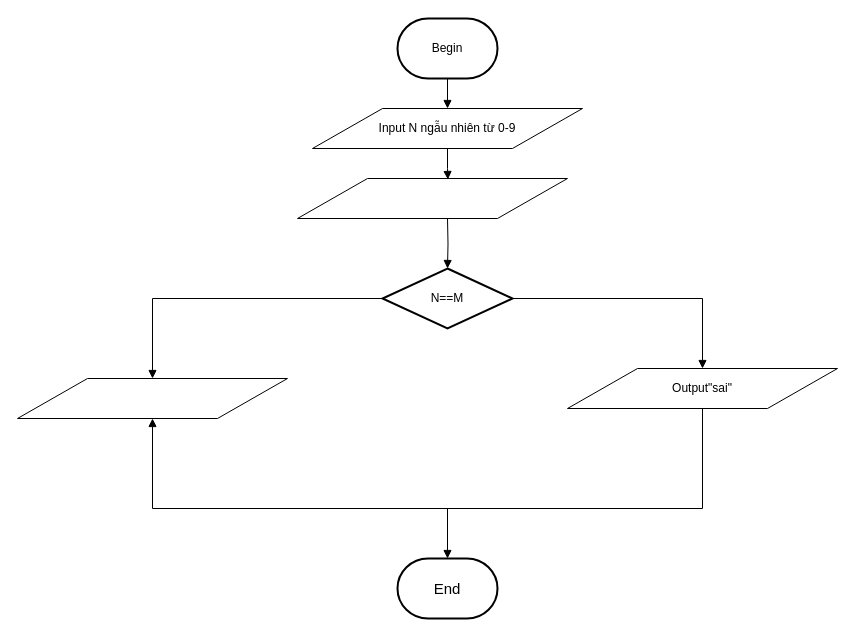
This 855x636 diagram has some shape labels left out. The centre of each missing label's shape, as x and y in pixels:
Input M: (432,198)
Output"đúng": (152,398)
